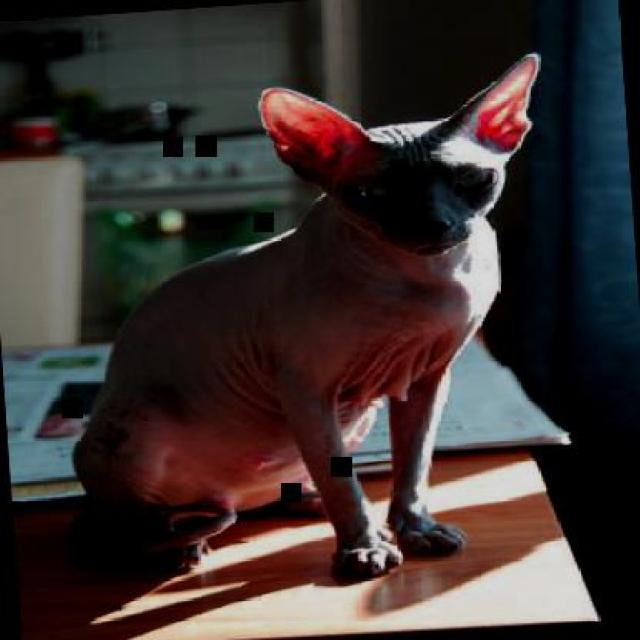cat: (31, 50, 575, 598)
